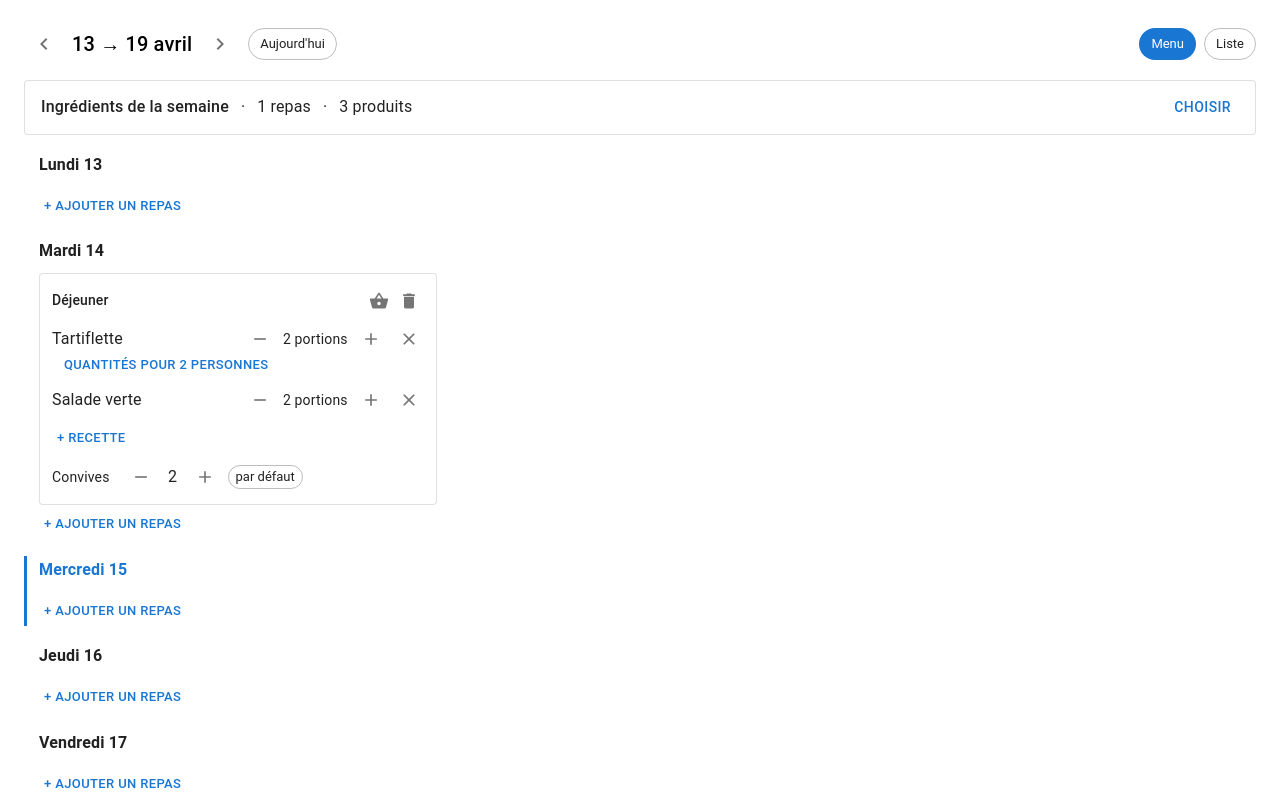
it: MealsPage — one page, two views of the same week › a meal the data provider lists by its IRI is still found by its bare id, in the Menu and in the Liste
Expected: the element with test id "meal-01LUNCH" is shown, left=39, top=273, right=437, bottom=505
Click the button "Liste" at x=1230, y=44, box left=1204, top=28, right=1256, bottom=60
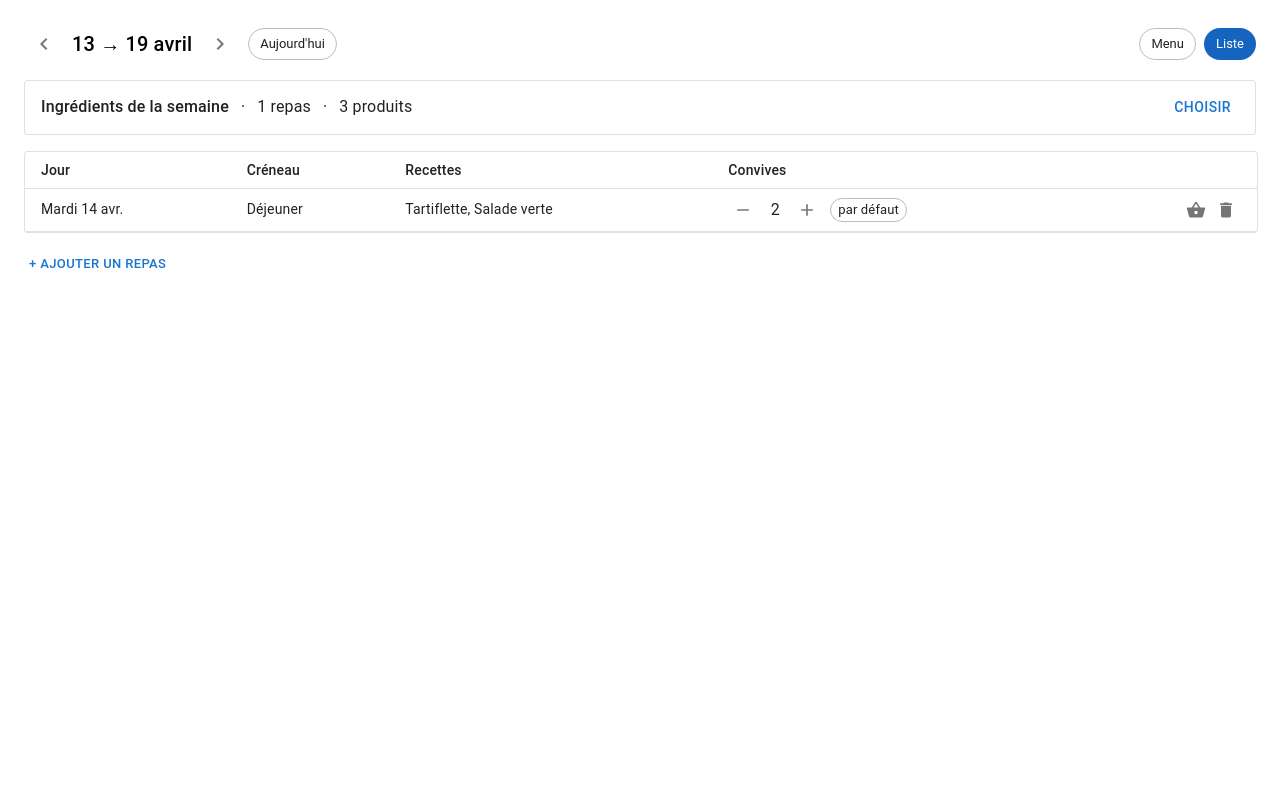
Expected: the row with test id "meal-row-01LUNCH" is shown, left=25, top=188, right=1257, bottom=231
